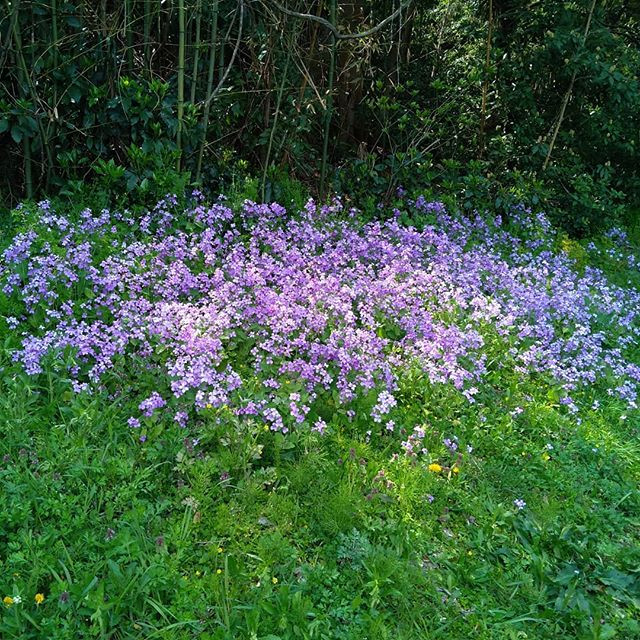flowers: (1, 193, 629, 443)
vegetation: (1, 1, 618, 200)
